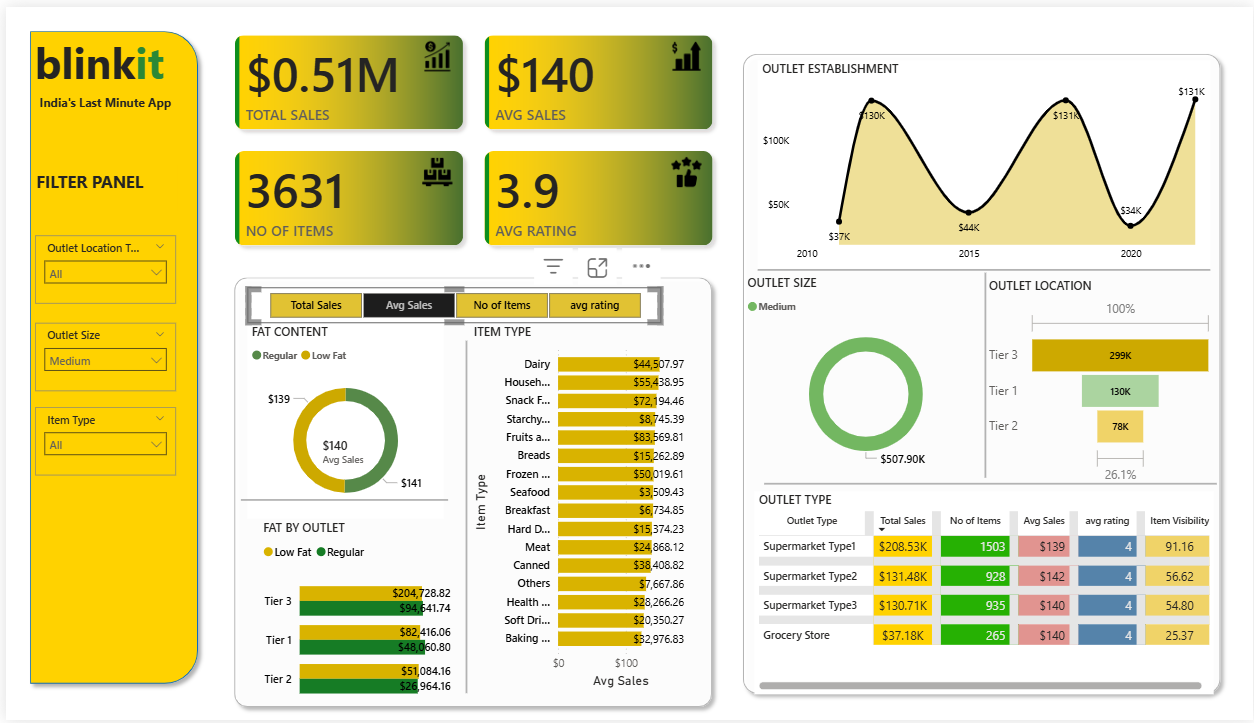

The dashboard page shown, as its layout file describes it:
{"tool":"powerbi","page":{"name":"Page 1","canvas":[1400,800],"ordinal":0},"visuals":[{"type":"shape","box":[18.3,18.3,206.3,750.3],"z":0},{"type":"textbox","box":[26.4,24,189.4,83.9],"z":1000},{"type":"textbox","box":[33.6,93.5,160.6,36],"z":2000},{"type":"cardVisual","fields":{"Data":["BlinkIT Grocery Data.Total Sales","BlinkIT Grocery Data.Avg Sales","BlinkIT Grocery Data.No of Items","BlinkIT Grocery Data.avg rating"]},"box":[239.7,14.4,570.6,270.9],"z":3000},{"type":"shape","box":[246.9,294.9,554,500],"z":4000},{"type":"donutChart","title":"FAT CONTENT","fields":{"Y":["BlinkIT Grocery Data.No of Items"],"Category":["BlinkIT Grocery Data.Item Fat Content"]},"box":[270.9,354.8,220.6,220],"z":5000},{"type":"slicer","fields":{"Values":["Metrics.Metrics"]},"box":[270.9,314.1,465.1,40.8],"z":6000},{"type":"cardVisual","fields":{"Data":["BlinkIT Grocery Data.No of Items"]},"box":[338,469.9,127.1,59.9],"z":7000},{"type":"clusteredBarChart","title":"FAT BY OUTLET","fields":{"Y":["BlinkIT Grocery Data.No of Items"],"Category":["BlinkIT Grocery Data.Outlet Location Type"],"Series":["BlinkIT Grocery Data.Item Fat Content"]},"box":[282.9,575.4,220.6,220.6],"z":8000},{"type":"shape","box":[263.7,544.2,232.6,19.2],"z":9000},{"type":"shape","box":[503.5,374,26.4,395.6],"z":10000},{"type":"barChart","title":"ITEM TYPE","fields":{"Y":["BlinkIT Grocery Data.No of Items"],"Category":["BlinkIT Grocery Data.Item Type"]},"box":[520.2,354.8,258.9,414.8],"z":11000},{"type":"shape","box":[817.5,43.2,553.8,736],"z":12000},{"type":"lineChart","title":"OUTLET ESTABLISHMENT","fields":{"Y":["BlinkIT Grocery Data.Total Sales"],"Category":["BlinkIT Grocery Data.Outlet Establishment Year"]},"box":[843.9,59.9,508.3,235],"z":13000},{"type":"shape","box":[843.9,285.3,508.3,19.2],"z":14000},{"type":"donutChart","title":"OUTLET SIZE","fields":{"Y":["BlinkIT Grocery Data.Total Sales"],"Category":["BlinkIT Grocery Data.Outlet Size"]},"box":[827.1,299.7,275.7,225.4],"z":15000},{"type":"shape","box":[1083.6,297.3,31.2,230.2],"z":16000},{"type":"funnel","title":"OUTLET LOCATION","fields":{"Category":["BlinkIT Grocery Data.Outlet Location Type"],"Y":["Sum(BlinkIT Grocery Data.Sales)"]},"box":[1098,304.5,261.3,237.3],"z":17000},{"type":"shape","box":[851.1,525,508.3,19.2],"z":18000},{"type":"pivotTable","title":"OUTLET TYPE","fields":{"Rows":["BlinkIT Grocery Data.Outlet Type"],"Values":["BlinkIT Grocery Data.Total Sales","BlinkIT Grocery Data.No of Items","BlinkIT Grocery Data.Avg Sales","BlinkIT Grocery Data.avg rating","Sum(BlinkIT Grocery Data.Item Visibility)"]},"box":[839.1,544.2,515.5,227.8],"z":19000},{"type":"slicer","fields":{"Values":["BlinkIT Grocery Data.Outlet Location Type"]},"box":[33.6,256.5,158.2,76.7],"z":20000},{"type":"slicer","fields":{"Values":["BlinkIT Grocery Data.Outlet Size"]},"box":[33.6,354.8,158.2,76.7],"z":21000},{"type":"slicer","fields":{"Values":["BlinkIT Grocery Data.Item Type"]},"box":[33.6,448.3,158.2,76.7],"z":22000},{"type":"textbox","box":[28.8,177.4,163,50.3],"z":23000}]}

Visuals, with their boxes in screenshot pixels (x1, y1, x2, y2), scaled from the page's 1400x800 canvas onto the 1254x723 screenshot:
shape: bbox(16, 17, 201, 695)
textbox: bbox(24, 22, 193, 98)
textbox: bbox(30, 85, 174, 117)
cardVisual - BlinkIT Grocery Data.Total Sales x BlinkIT Grocery Data.Avg Sales: bbox(215, 13, 726, 258)
shape: bbox(221, 267, 717, 718)
"FAT CONTENT" donutChart: bbox(243, 321, 440, 519)
slicer - Metrics.Metrics: bbox(243, 284, 659, 321)
cardVisual - BlinkIT Grocery Data.No of Items: bbox(303, 425, 417, 479)
"FAT BY OUTLET" clusteredBarChart: bbox(253, 520, 451, 719)
shape: bbox(236, 492, 445, 509)
shape: bbox(451, 338, 475, 696)
"ITEM TYPE" barChart: bbox(466, 321, 698, 696)
shape: bbox(732, 39, 1228, 704)
"OUTLET ESTABLISHMENT" lineChart: bbox(756, 54, 1211, 267)
shape: bbox(756, 258, 1211, 275)
"OUTLET SIZE" donutChart: bbox(741, 271, 988, 475)
shape: bbox(971, 269, 999, 477)
"OUTLET LOCATION" funnel: bbox(983, 275, 1218, 490)
shape: bbox(762, 474, 1218, 492)
"OUTLET TYPE" pivotTable: bbox(752, 492, 1213, 698)
slicer - BlinkIT Grocery Data.Outlet Location Type: bbox(30, 232, 172, 301)
slicer - BlinkIT Grocery Data.Outlet Size: bbox(30, 321, 172, 390)
slicer - BlinkIT Grocery Data.Item Type: bbox(30, 405, 172, 474)
textbox: bbox(26, 160, 172, 206)
